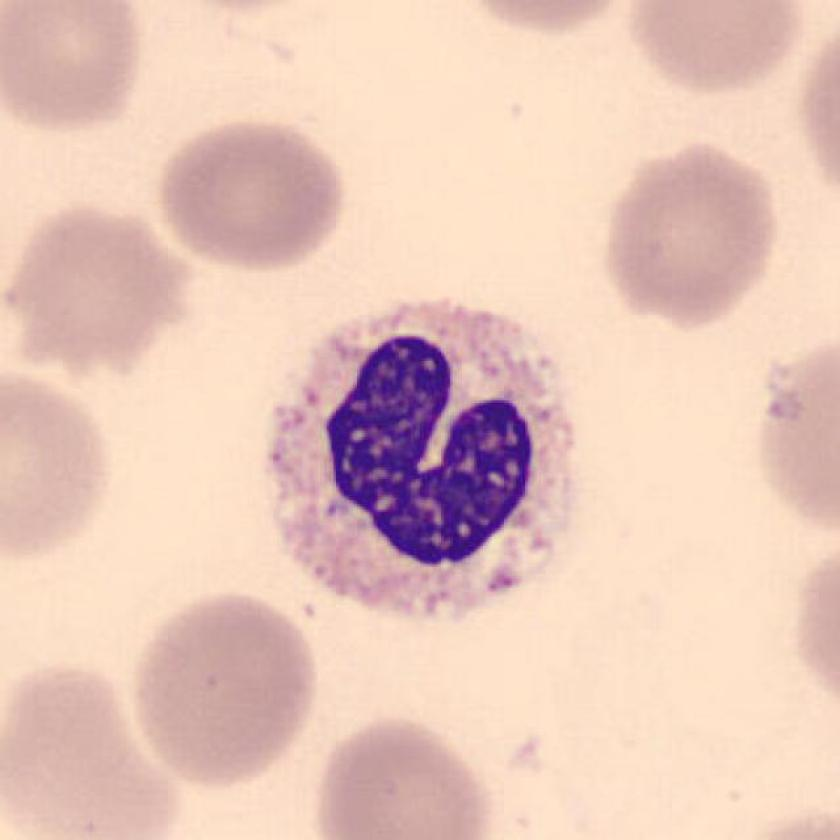neutrophil: (273, 303, 573, 618)
